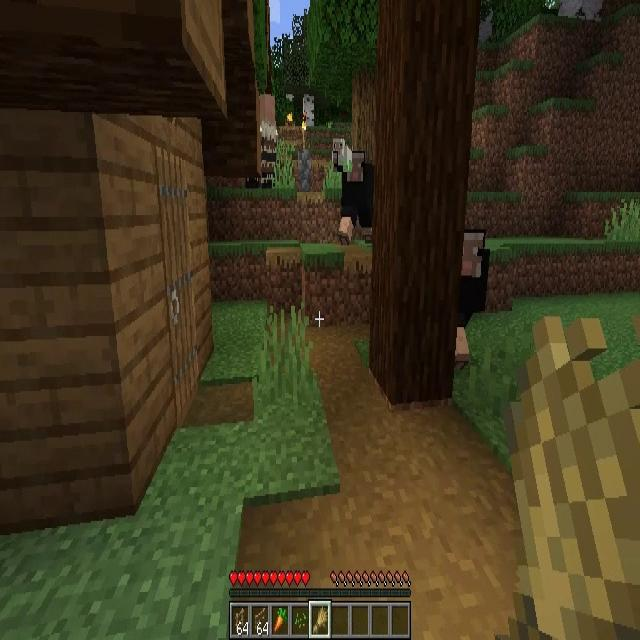people: (260, 95, 278, 188)
sheep: (456, 229, 489, 368), (339, 149, 372, 241), (333, 138, 352, 172)
